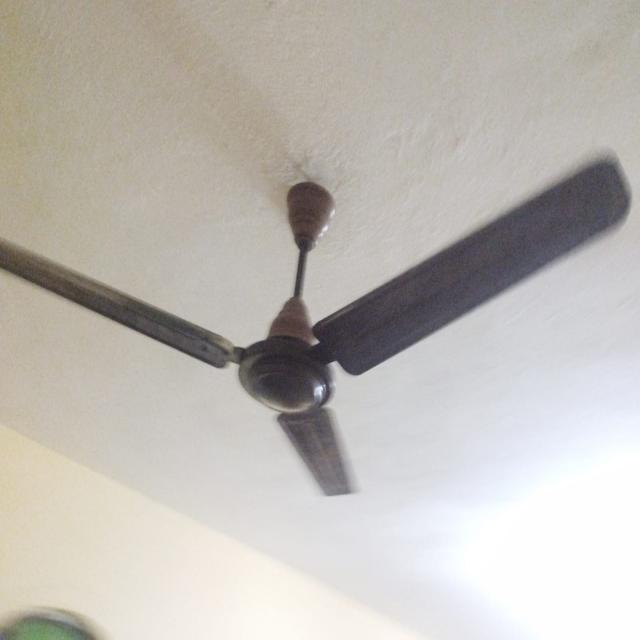fan_off: (1, 153, 633, 497)
